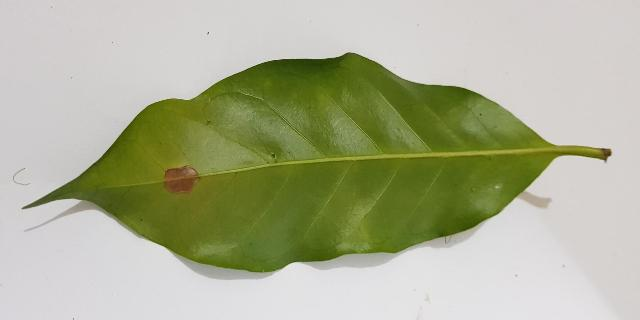cercospora: (164, 166, 199, 193)
